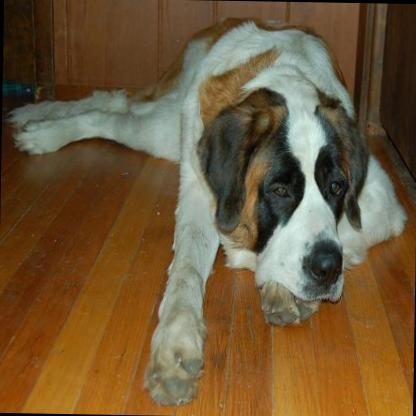Saint_Bernard: (2, 10, 407, 416)
